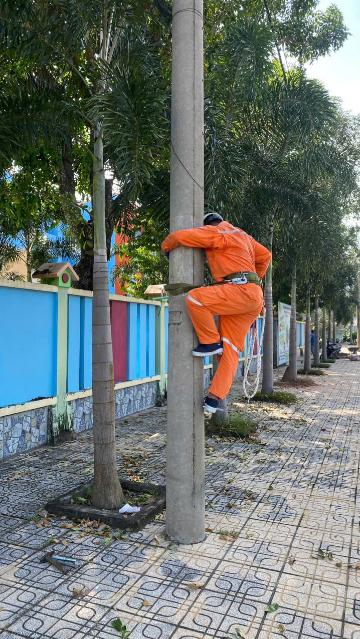harness: (208, 269, 272, 292)
helmet: (193, 197, 229, 233)
shoes: (186, 336, 228, 363), (199, 392, 224, 417)
